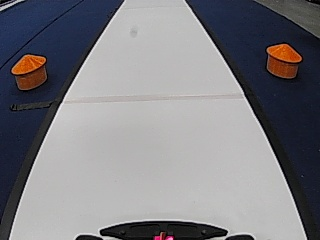granary: (264, 41, 302, 80), (10, 53, 48, 91)
